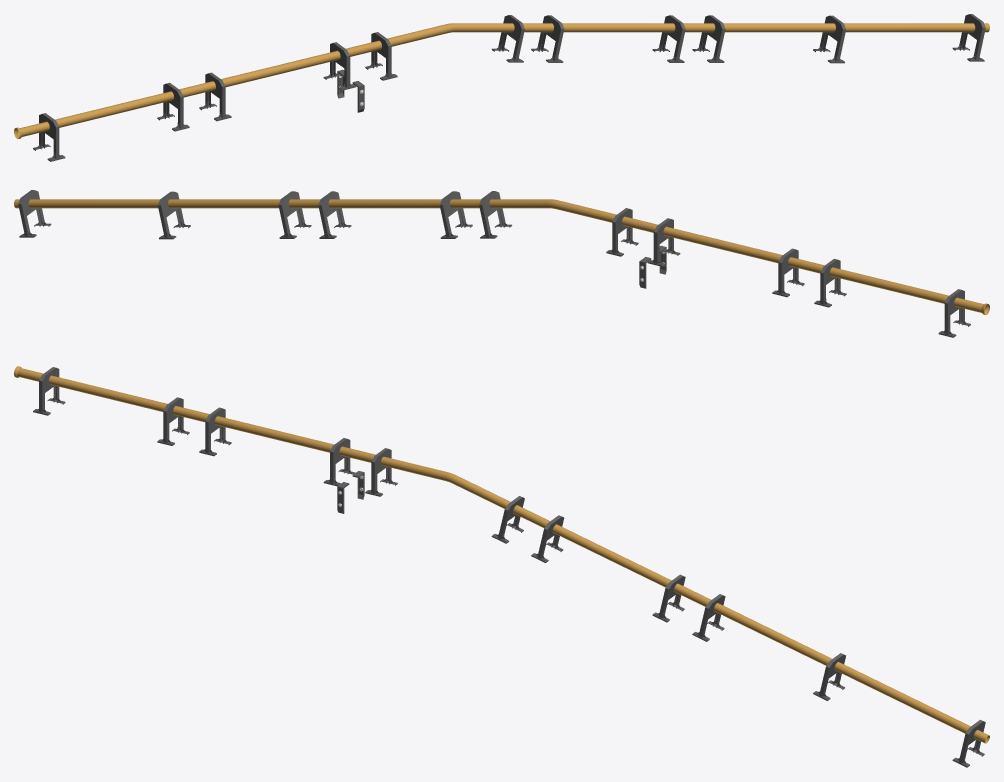
3 renders of one model, top to bottom at view 1: azimuth 30°, elevation 25°; view 2: azimuth 150°, elevation 25°; view 3: azimuth 330°, elevation 25°, orthographic.
Visible parts, largest first — view 1: SM_H_Building_FutureTech_Test_01_ExterWall_04; view 2: SM_H_Building_FutureTech_Test_01_ExterWall_04; view 3: SM_H_Building_FutureTech_Test_01_ExterWall_04.
Part boxes in pixels (box(x1,y1,x2,y2)): SM_H_Building_FutureTech_Test_01_ExterWall_04: box(14, 14, 989, 161); SM_H_Building_FutureTech_Test_01_ExterWall_04: box(14, 190, 989, 337); SM_H_Building_FutureTech_Test_01_ExterWall_04: box(14, 366, 989, 767).
Size of the model in its own units: 50.44 by 1239 by 200.
